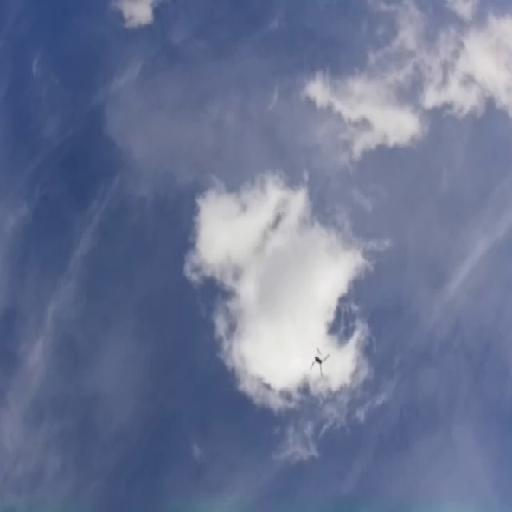drones: (308, 341, 332, 383)
